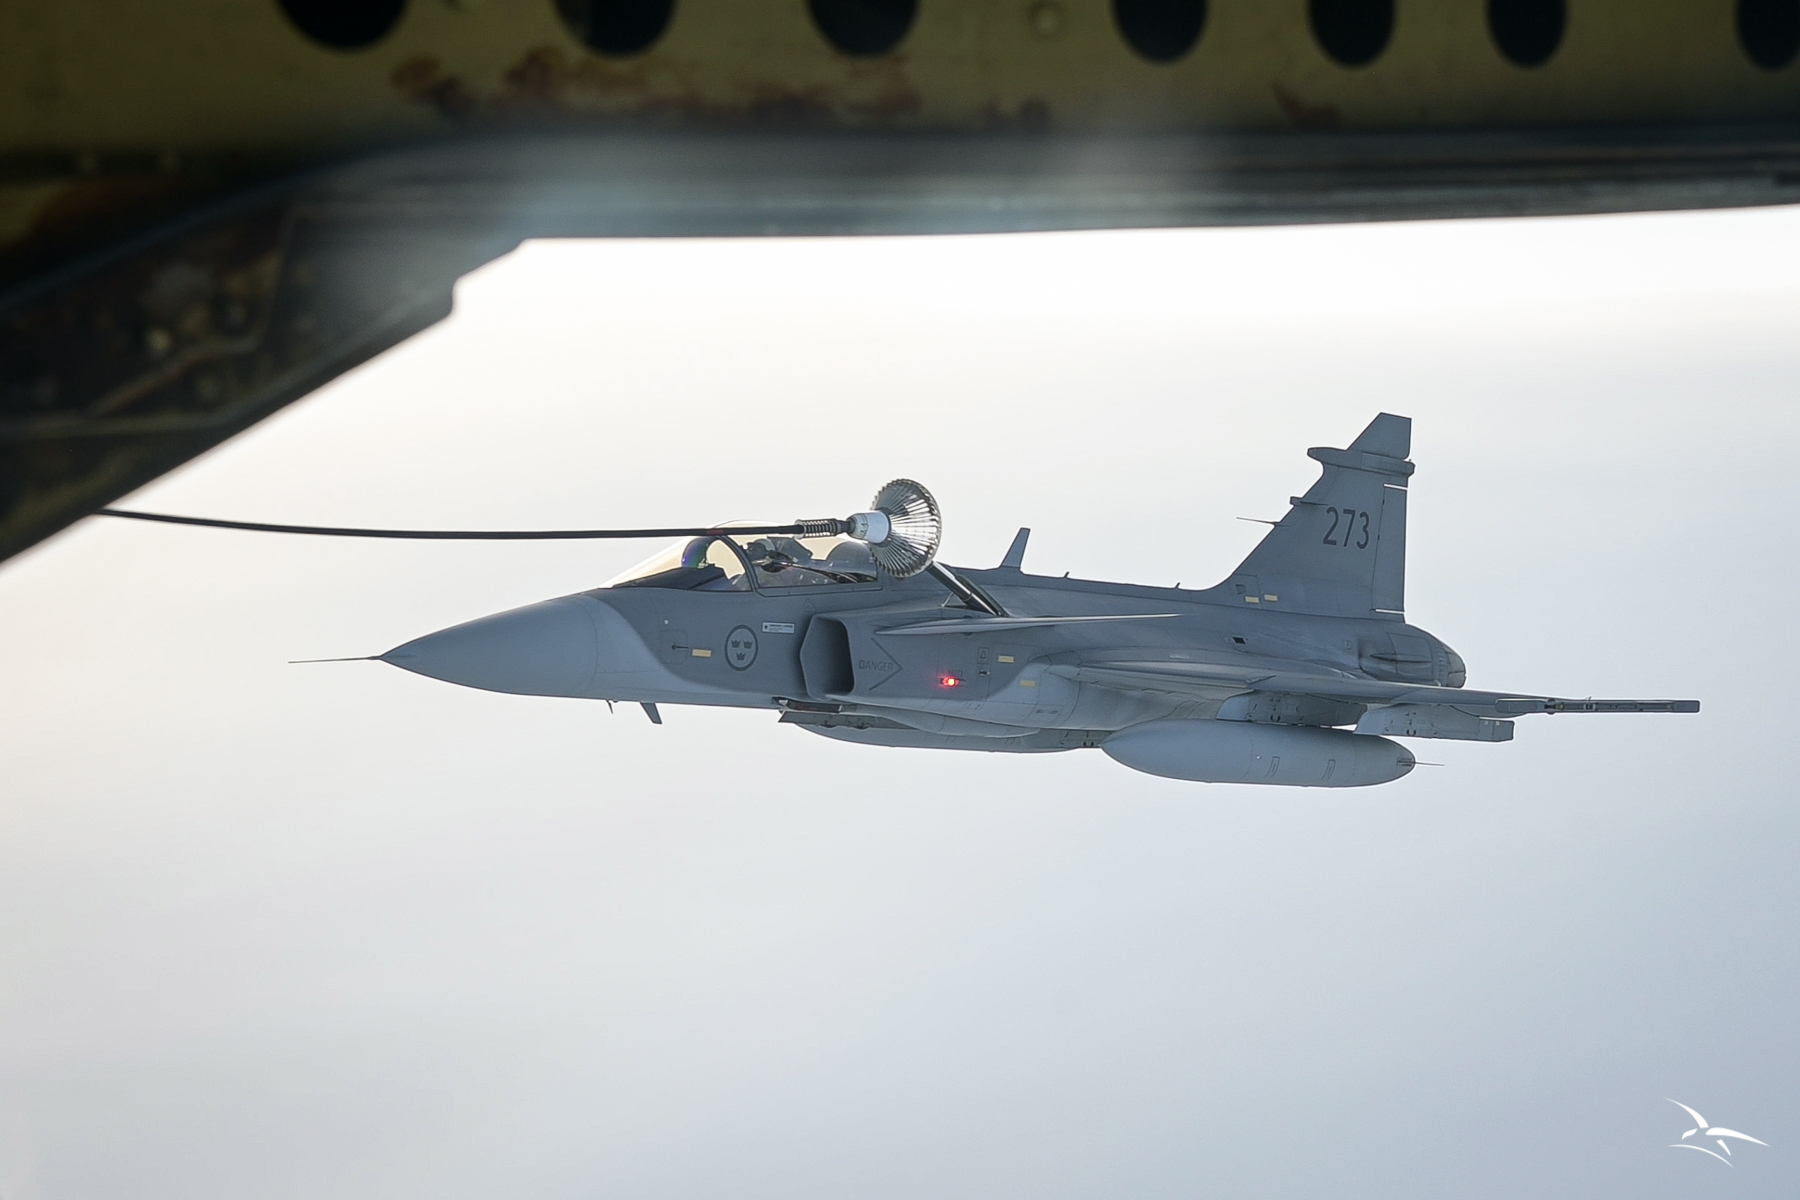JAS39: (287, 411, 1701, 789)
